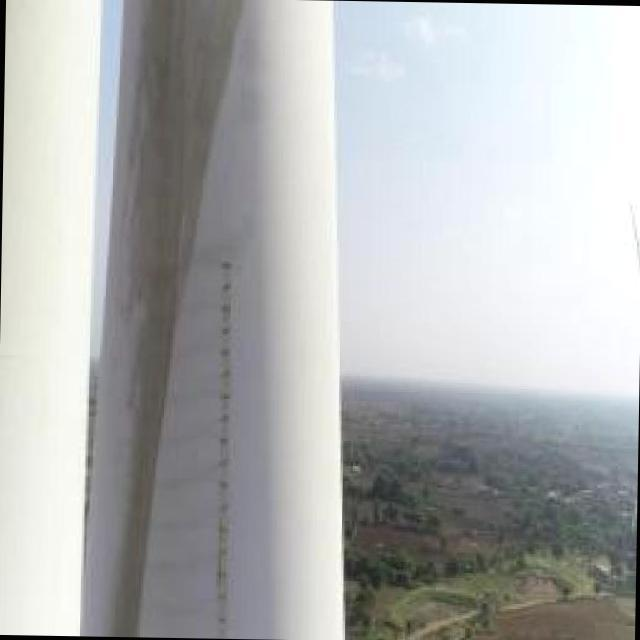Dirt: (104, 0, 245, 636)
